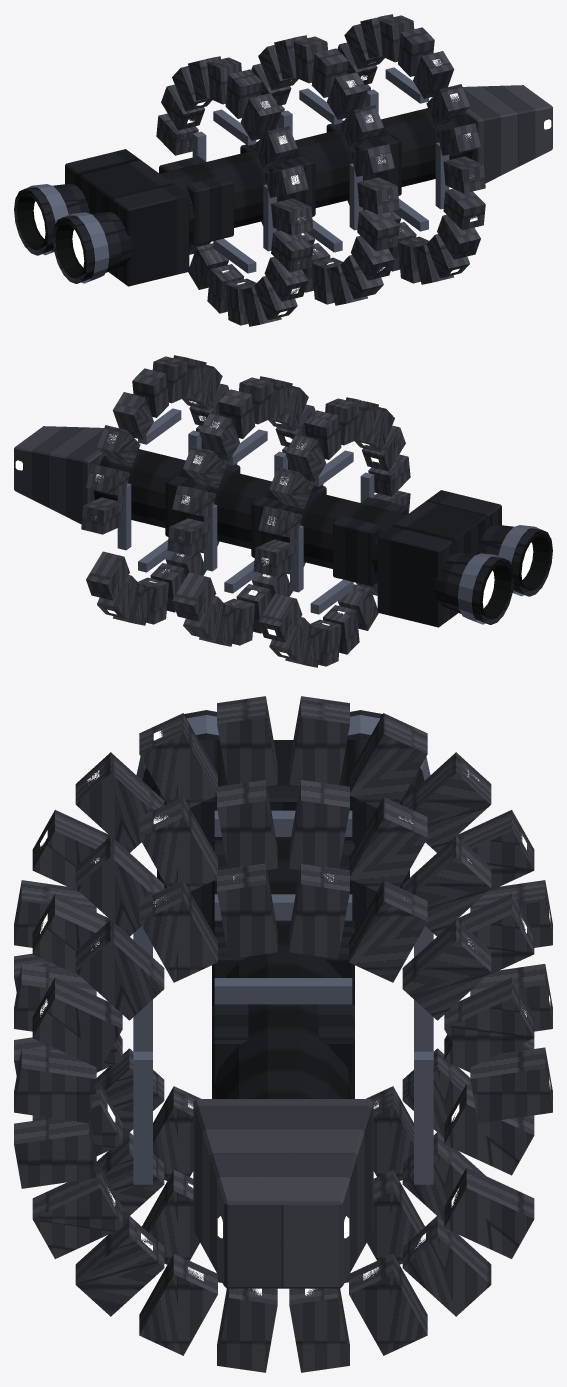
File: colony_ark.glb
3 renders of one model, top to bottom at view 1: azimuth 30°, elevation 25°; view 2: azimuth 150°, elevation 25°; view 3: azimuth 270°, elevation 25°, orthographic. The views are drawn at different scales.
Visible parts, largest first — view 1: ark_hull, habitat_ring_3, habitat_ring_1, habitat_ring_2; view 2: ark_hull, habitat_ring_3, habitat_ring_1, habitat_ring_2; view 3: habitat_ring_1, habitat_ring_2, ark_hull, habitat_ring_3.
Part boxes in pixels (x1=…): ark_hull: x1=14, y1=85, x2=552, y2=286; habitat_ring_3: x1=156, y1=56, x2=313, y2=326; habitat_ring_1: x1=337, y1=14, x2=485, y2=284; habitat_ring_2: x1=251, y1=35, x2=399, y2=305; ark_hull: x1=14, y1=426, x2=552, y2=627; habitat_ring_3: x1=253, y1=397, x2=410, y2=667; habitat_ring_1: x1=81, y1=355, x2=237, y2=625; habitat_ring_2: x1=167, y1=376, x2=323, y2=646; habitat_ring_1: x1=14, y1=863, x2=552, y2=1372; habitat_ring_2: x1=14, y1=780, x2=552, y2=1282; ark_hull: x1=136, y1=710, x2=430, y2=1288; habitat_ring_3: x1=14, y1=696, x2=552, y2=1180.
Size of the model in its own units: 70 by 33.63 by 33.63.
1 material, 1 textured.
